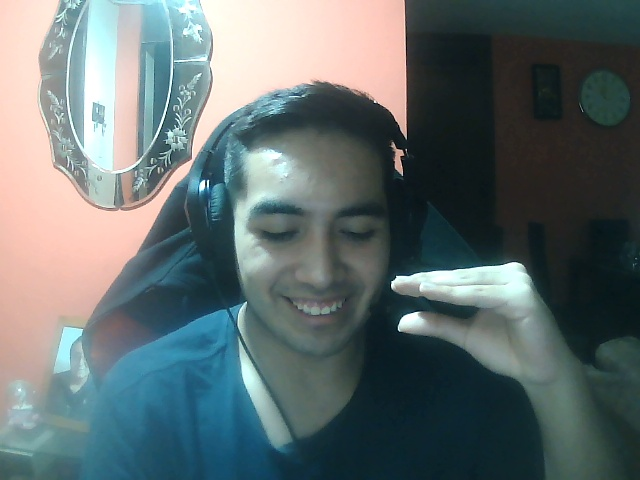no: (387, 258, 587, 381)
